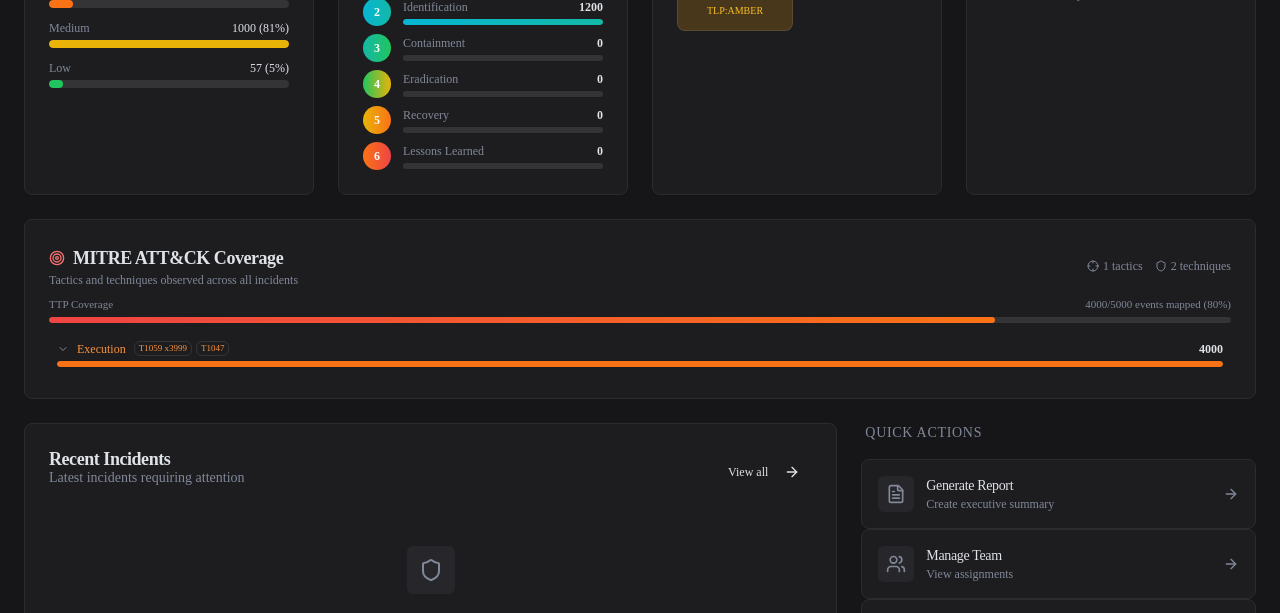
dashboard page › expands an aggregate tactic to techniques only
(page scrolled)
Step 1. Click the button "Execution T1059 x3999 T1047 4000" → click(101, 348), box [49,334,1231,372]
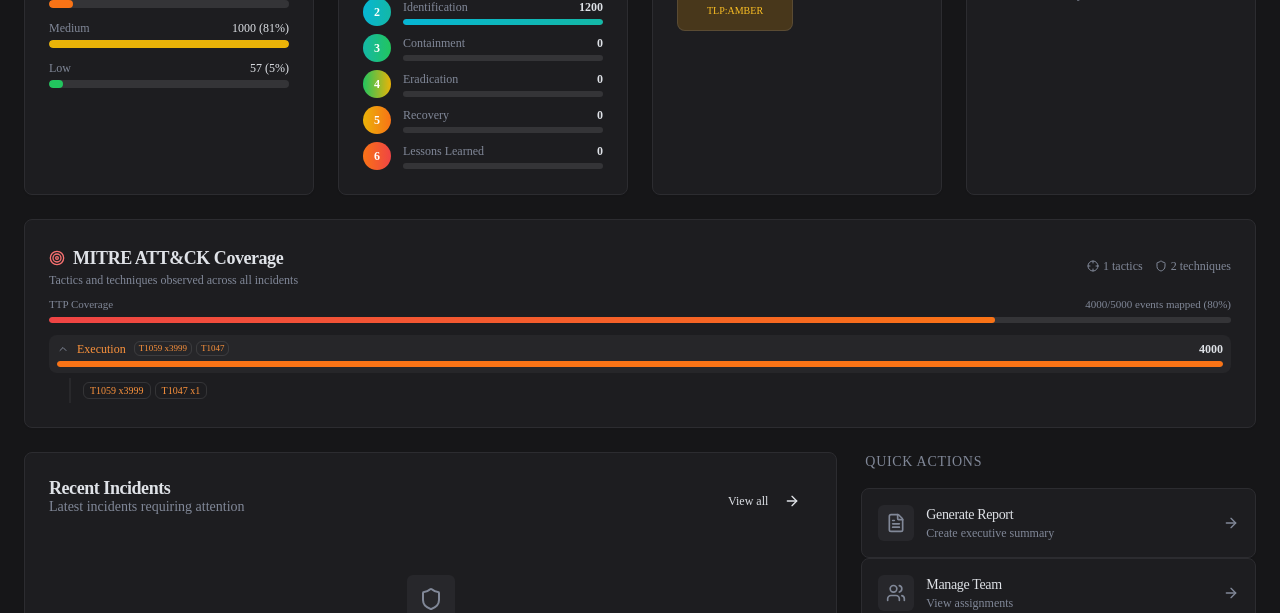
Now the text "T1047 x1" is shown, box [155,382,207,398]
